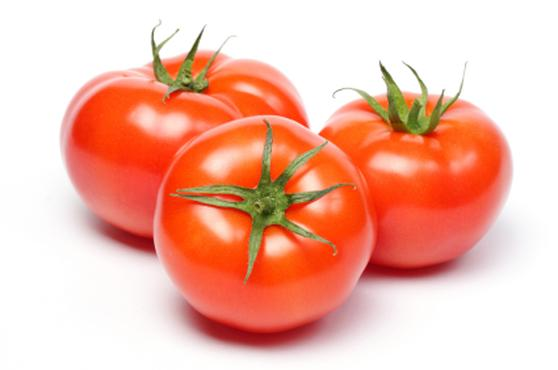tomato: (156, 110, 380, 336)
